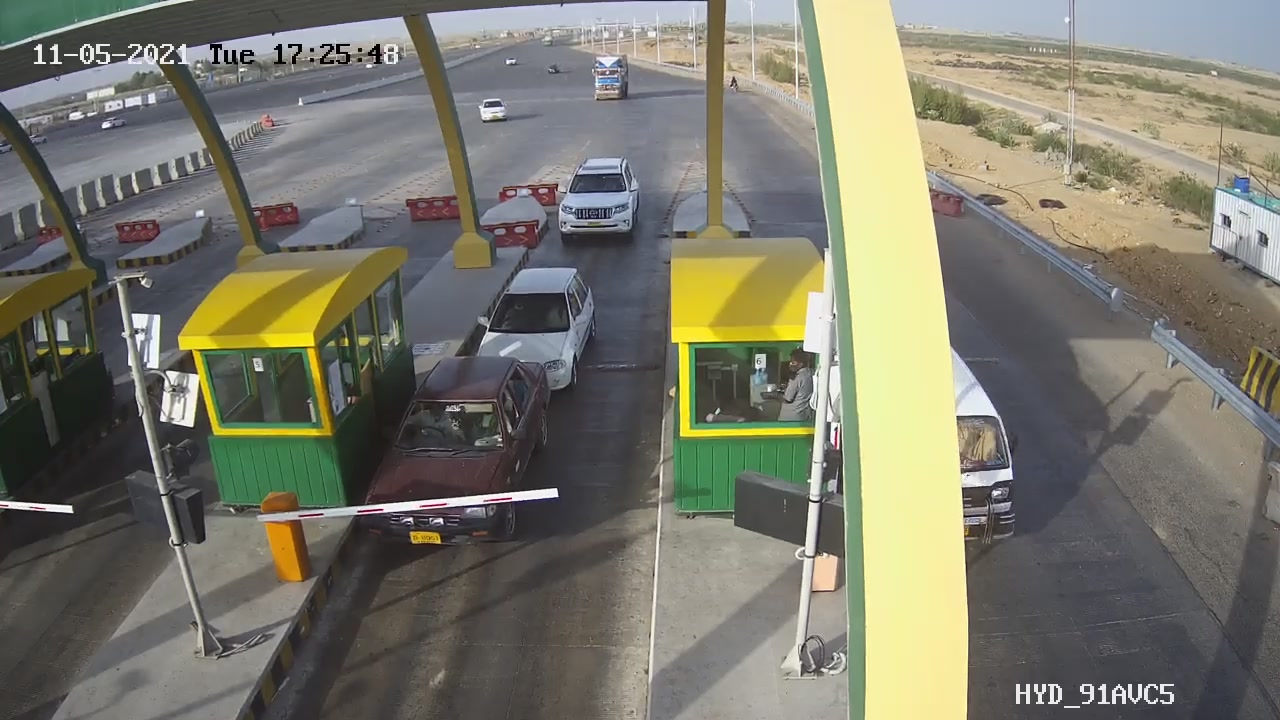F1: (348, 340, 570, 574), (459, 248, 611, 414)
